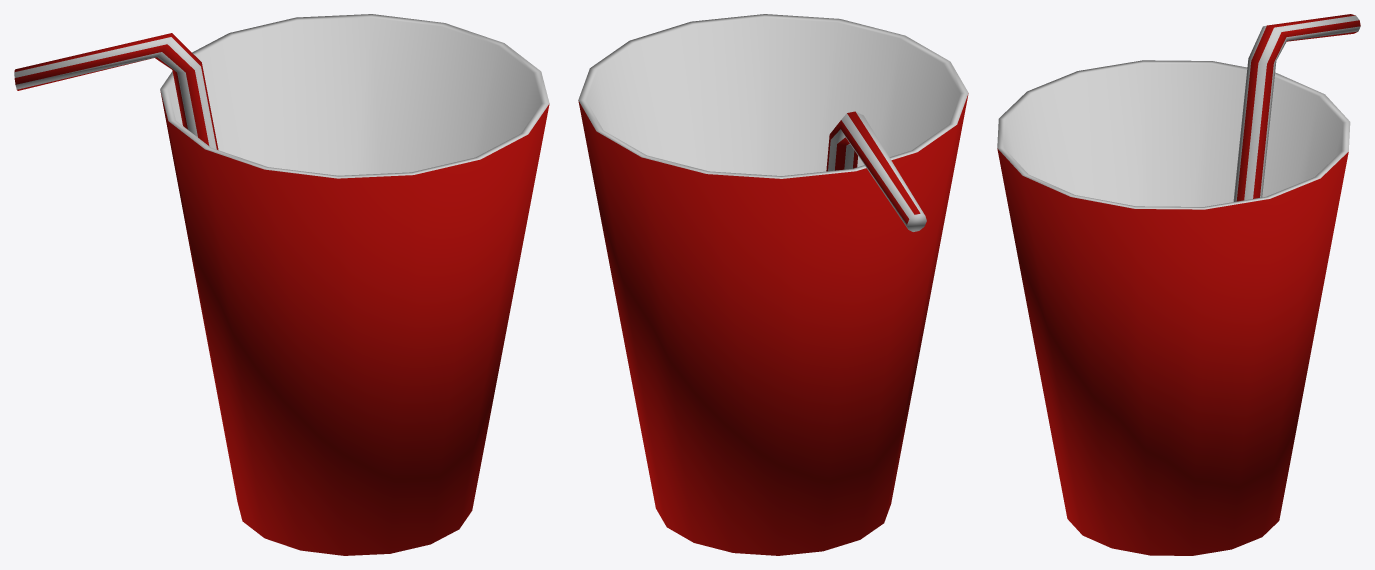
The model's file is cup.obj.
3 renders of one model, left to right at view 1: azimuth 30°, elevation 25°; view 2: azimuth 150°, elevation 25°; view 3: azimuth 270°, elevation 25°, orthographic. The views are drawn at different scales.
Parts seen in each view (by area): view 1: Cylinder; view 2: Cylinder; view 3: Cylinder.
Part boxes in pixels (left/top/right/bottom): Cylinder: left=14, top=14, right=549, bottom=555; Cylinder: left=578, top=14, right=968, bottom=555; Cylinder: left=997, top=14, right=1360, bottom=555.
Bounding box in the file's own units: 4.05 × 4.35 × 3.36.
